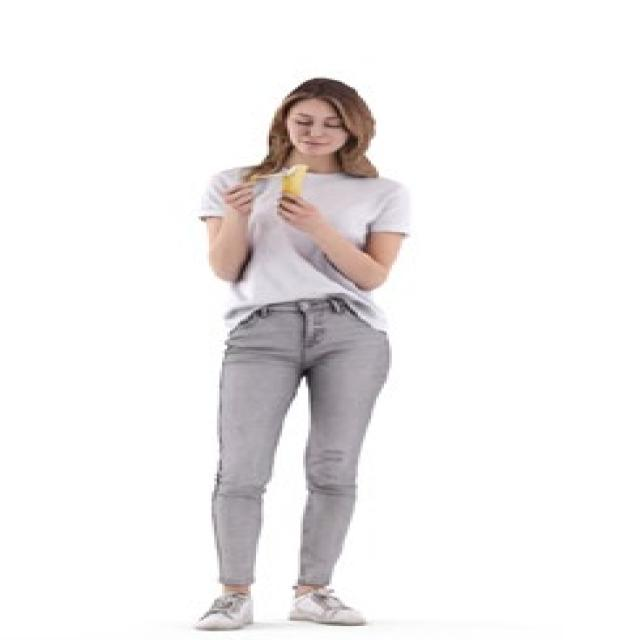standing: (190, 75, 411, 636)
